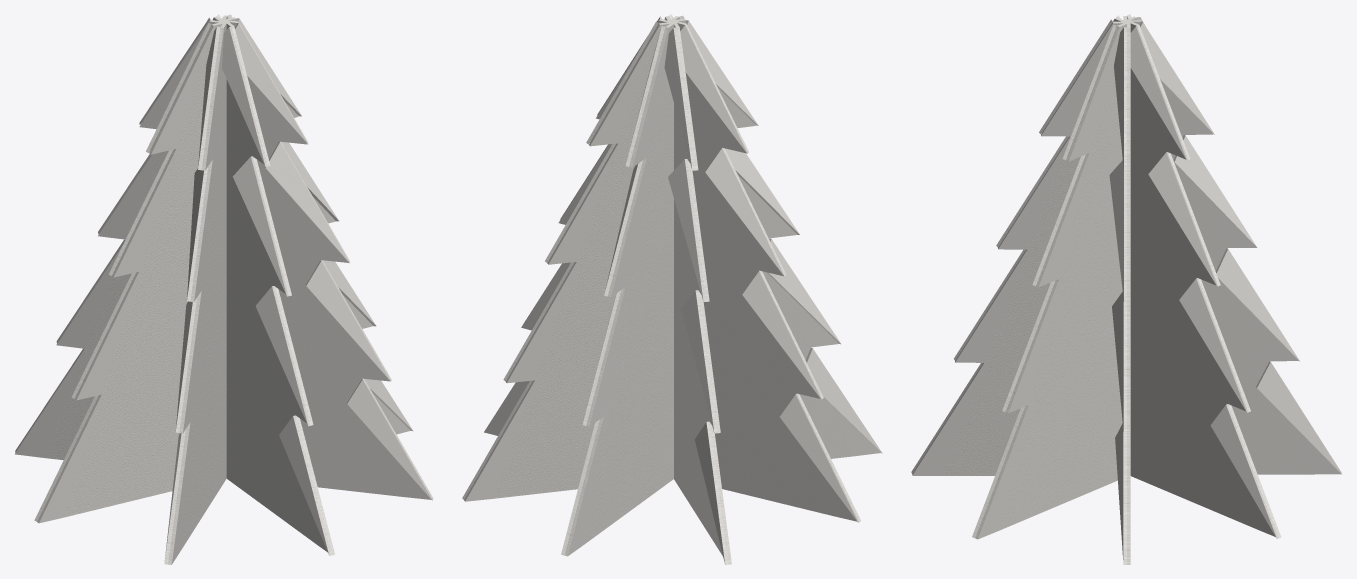
Rendered from Origami Tree_Sketchfab Test.c4d.fbx.
The picture shows the model from 3 angles, left to right: view 1: azimuth 30°, elevation 25°; view 2: azimuth 150°, elevation 25°; view 3: azimuth 270°, elevation 25°; orthographic projection.
Visible parts, largest first — view 1: Root_4, Root_2, Root_1, Root_3, Root_5, Plane_5_3, Plane_7_2, Plane_5_2, Plane_6_3, Plane_6_2, Plane_7_3, Plane_4_3 (+14 smaller); view 2: Root_6, Root_4, Root_7, Root_5, Root_3, Root_0, Plane_7_5, Plane_6_5, Plane_5_5, Plane_5_6, Plane_6_6, Plane_4_5 (+12 smaller); view 3: Root_1, Root_7, Root_2, Root_6, Root_0, Plane_5_8, Plane_6_8, Plane_7_8, Plane_6_7, Plane_7_7, Plane_4_8, Plane_5_7 (+9 smaller).
Part boxes in pixels (bbox=[...]): Root_4: bbox=[37, 21, 224, 523]; Root_2: bbox=[225, 21, 334, 555]; Root_1: bbox=[224, 20, 433, 499]; Root_3: bbox=[168, 22, 226, 564]; Root_5: bbox=[15, 20, 223, 460]; Plane_5_3: bbox=[232, 156, 288, 296]; Plane_7_2: bbox=[347, 379, 432, 500]; Plane_5_2: bbox=[265, 141, 349, 263]; Plane_6_3: bbox=[255, 286, 310, 426]; Plane_6_2: bbox=[306, 260, 390, 381]; Plane_7_3: bbox=[279, 415, 331, 555]; Plane_4_3: bbox=[221, 26, 267, 166]; Root_6: bbox=[564, 22, 674, 556]; Root_4: bbox=[673, 21, 860, 521]; Root_7: bbox=[464, 22, 672, 501]; Root_5: bbox=[673, 22, 731, 564]; Root_3: bbox=[672, 19, 880, 458]; Root_0: bbox=[484, 19, 671, 435]; Plane_7_5: bbox=[780, 394, 859, 522]; Plane_6_5: bbox=[742, 271, 821, 399]; Plane_5_5: bbox=[705, 148, 784, 276]; Plane_5_6: bbox=[668, 159, 705, 301]; Plane_6_6: bbox=[681, 290, 716, 433]; Plane_4_5: bbox=[680, 25, 747, 153]; Root_1: bbox=[975, 22, 1126, 539]; Root_7: bbox=[1128, 21, 1281, 537]; Root_2: bbox=[912, 21, 1125, 475]; Root_6: bbox=[1128, 20, 1341, 474]; Root_0: bbox=[1127, 21, 1130, 564]; Plane_5_8: bbox=[1148, 152, 1217, 286]; Plane_6_8: bbox=[1179, 278, 1248, 412]; Plane_7_8: bbox=[1210, 404, 1278, 538]; Plane_6_7: bbox=[1215, 248, 1299, 361]; Plane_7_7: bbox=[1256, 361, 1342, 474]; Plane_4_8: bbox=[1130, 26, 1187, 160]; Plane_5_7: bbox=[1173, 135, 1257, 247].
Bounding box in the file's own units: 346 × 401 × 346.
1 material, 1 textured.
